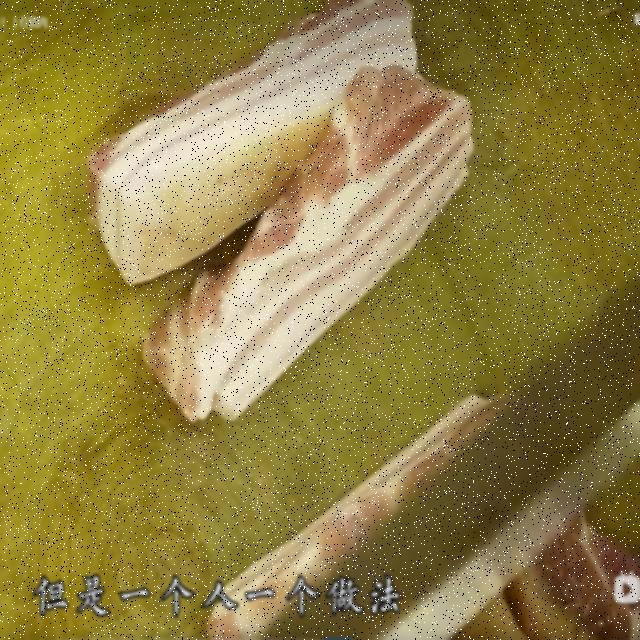pork: (143, 53, 481, 423), (63, 0, 408, 268)
